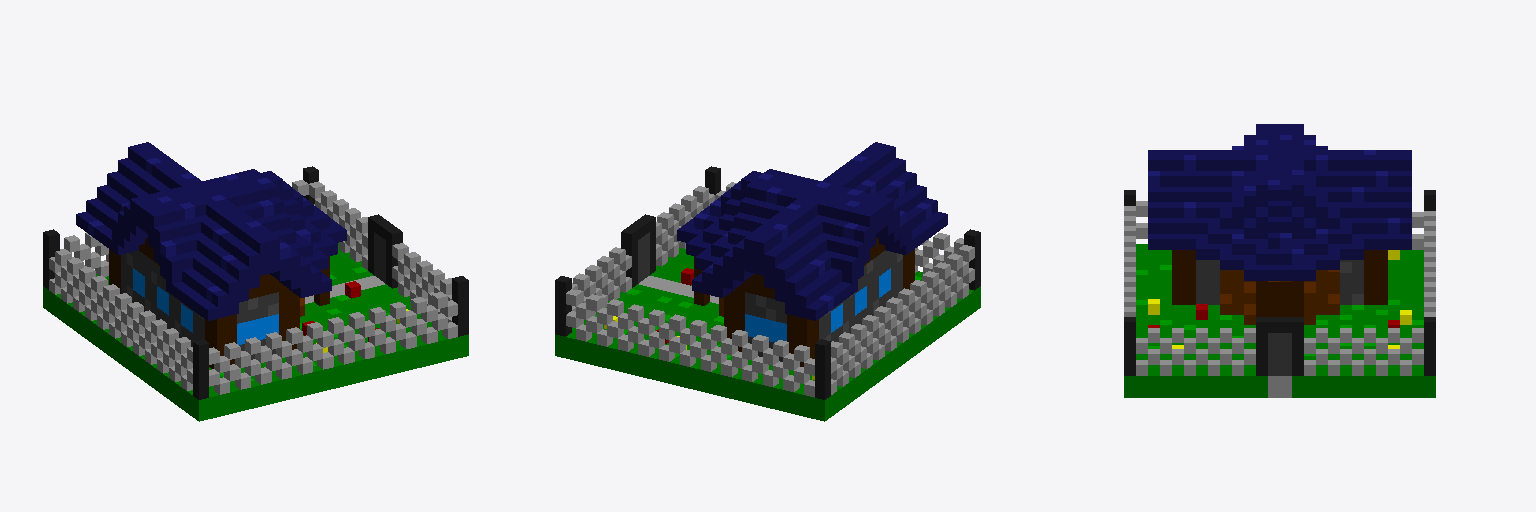
3 renders of one model, left to right at view 1: azimuth 30°, elevation 25°; view 2: azimuth 150°, elevation 25°; view 3: azimuth 270°, elevation 25°, orthographic.
Visible parts, largest first — view 1: object 1; view 2: object 1; view 3: object 1.
Part boxes in pixels (x1,y1,x2,y2): object 1: (43,142,468,421); object 1: (555,142,980,421); object 1: (1124,124,1435,397).
Size of the model in its own units: 2.6 by 1.4 by 2.6.
1 materials, 1 textured.